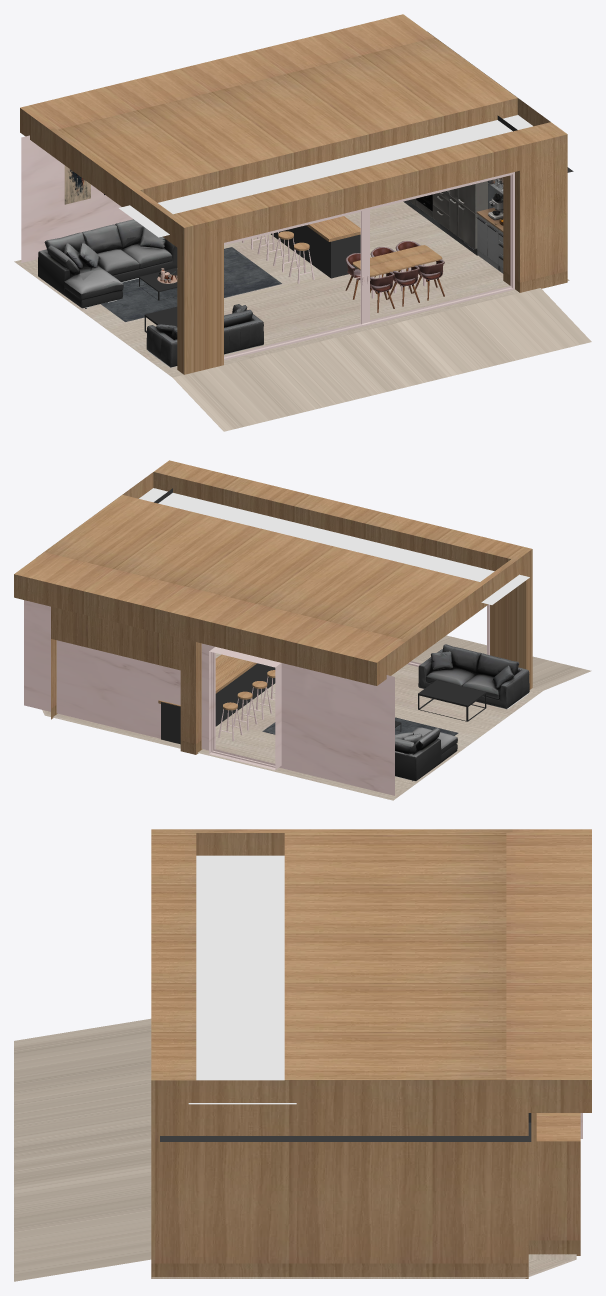
Rendered from kitchen-design.glb.
3 views of the same model, one above another, from view 1: azimuth 30°, elevation 25°; view 2: azimuth 150°, elevation 25°; view 3: azimuth 270°, elevation 25° (orthographic). The views are drawn at different scales.
Visible parts, largest first — view 1: Cube_Material003_0, Plane_Material002_0, object 2, node_0002_Material007_0, Plane001__0, Plane002_Material012_0, node_0001_Material006_0, node_0_Material005_0, Cube003_Material008_0, node_0004_Material010_0, node_0003_Material009_0, Cube002_Material004_0 (+1 smaller); view 2: Cube_Material003_0, object 2, Plane_Material002_0, Plane001__0, node_0_Material005_0, node_0002_Material007_0, Cube003_Material008_0, Cube002_Material004_0, Plane002_Material012_0; view 3: Cube_Material003_0, Plane_Material002_0, Plane001__0, Cube003_Material008_0.
Boxes of the visible parts, x1,y1,x2,y2 form: Cube_Material003_0: [20, 14, 567, 374]; Plane_Material002_0: [14, 201, 591, 431]; object 2: [21, 135, 514, 360]; node_0002_Material007_0: [38, 219, 177, 308]; Plane001__0: [119, 115, 532, 237]; Plane002_Material012_0: [101, 247, 281, 321]; node_0001_Material006_0: [403, 181, 487, 255]; node_0_Material005_0: [146, 304, 263, 367]; Cube003_Material008_0: [271, 115, 573, 278]; node_0004_Material010_0: [345, 241, 444, 312]; node_0003_Material009_0: [476, 177, 503, 273]; Cube002_Material004_0: [139, 268, 177, 332]; Cube_Material003_0: [14, 460, 532, 754]; object 2: [24, 600, 489, 795]; Plane_Material002_0: [42, 635, 591, 800]; Plane001__0: [139, 488, 529, 604]; node_0_Material005_0: [418, 644, 529, 709]; node_0002_Material007_0: [395, 727, 457, 781]; Cube003_Material008_0: [154, 488, 275, 744]; Cube002_Material004_0: [395, 680, 486, 733]; Plane002_Material012_0: [262, 717, 458, 735]; Cube_Material003_0: [151, 829, 591, 1278]; Plane_Material002_0: [14, 1018, 576, 1281]; Plane001__0: [188, 855, 296, 1104]; Cube003_Material008_0: [160, 1113, 531, 1141].
Size of the model in its own units: 14.29 by 5.51 by 13.16.
Materials: 15 (12 with a texture image).
